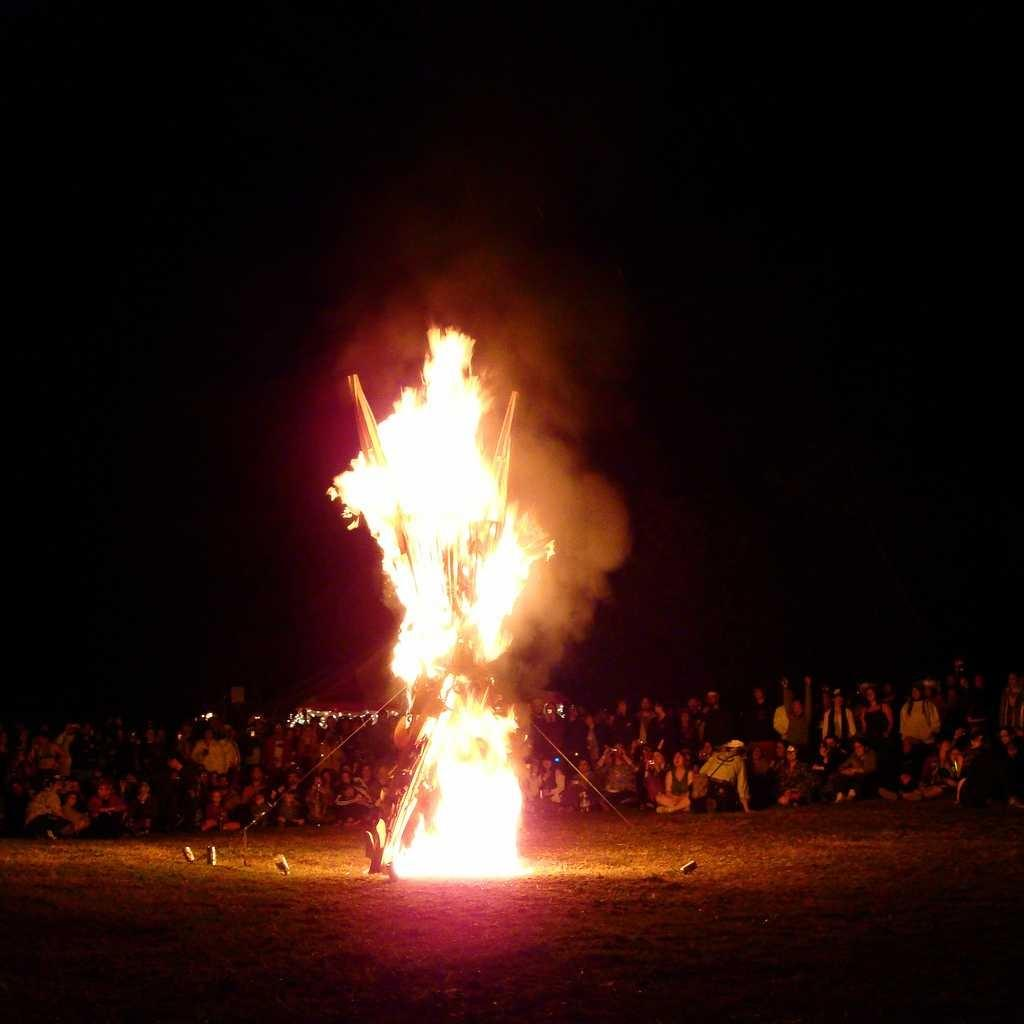fire: (378, 395, 528, 652), (402, 715, 518, 878)
